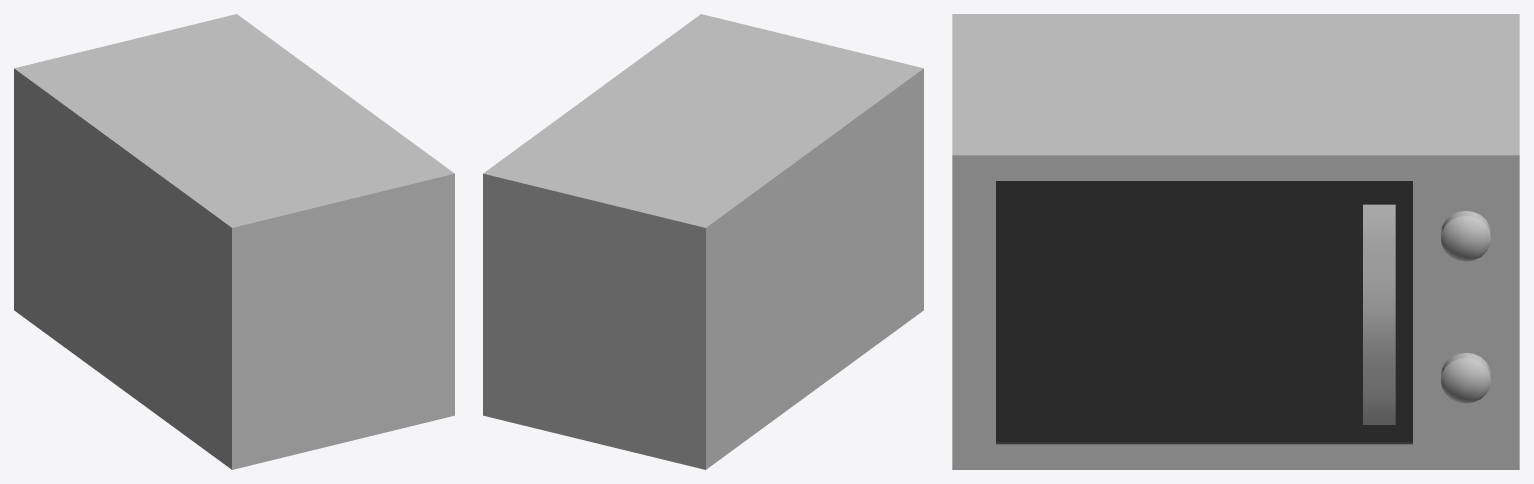
The model's file is Microwave.fbx.
3 renders of one model, left to right at view 1: azimuth 30°, elevation 25°; view 2: azimuth 150°, elevation 25°; view 3: azimuth 270°, elevation 25°, orthographic. The views are drawn at different scales.
Parts seen in each view (by area): view 1: Microwave; view 2: Microwave; view 3: Microwave.
Part boxes in pixels (x1=…): Microwave: x1=14, y1=14, x2=454, y2=469; Microwave: x1=483, y1=14, x2=923, y2=469; Microwave: x1=952, y1=14, x2=1519, y2=469.
Size of the model in its own units: 48.87 by 47.44 by 77.49.
